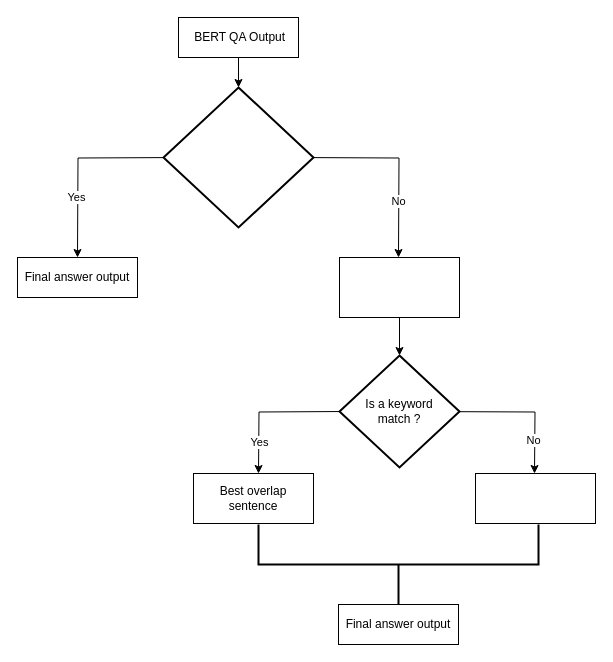
Some shapes in this 613 by 662 pixel diagram are drawn without their labels. Here are the shapes that lost their labels. From the top down, the centre of each, then its label:
point (238, 157): Is Answer confident and long enough ?
point (399, 287): Global keyword matches in top-k chunks
point (535, 498): First sentence from top K chunks
